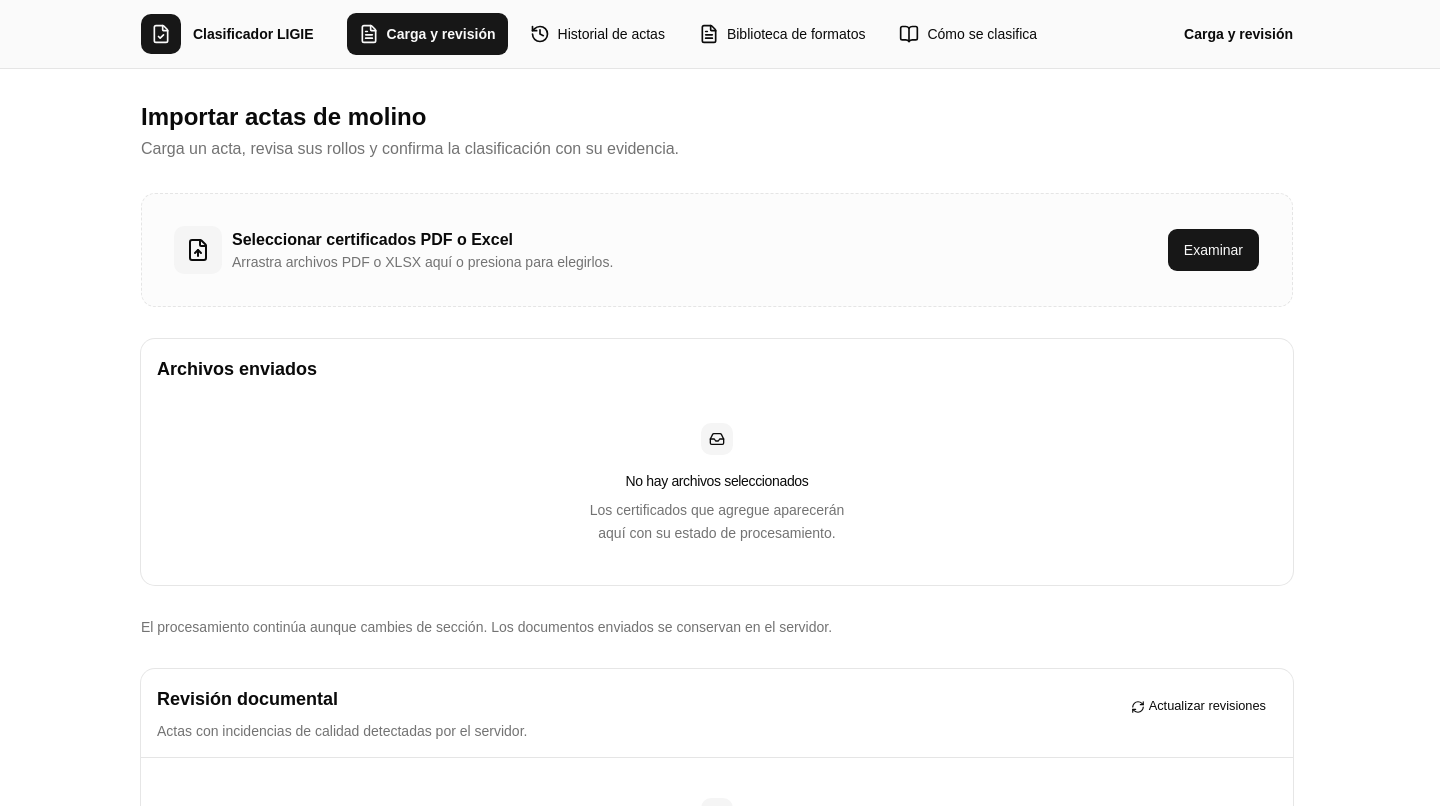
Carga, revisión e historial › conserva las selecciones guardadas sin una acción adicional de borrador
Click the button "Historial de actas" at (597, 34), box [516,12,678,56]
(page scrolled)
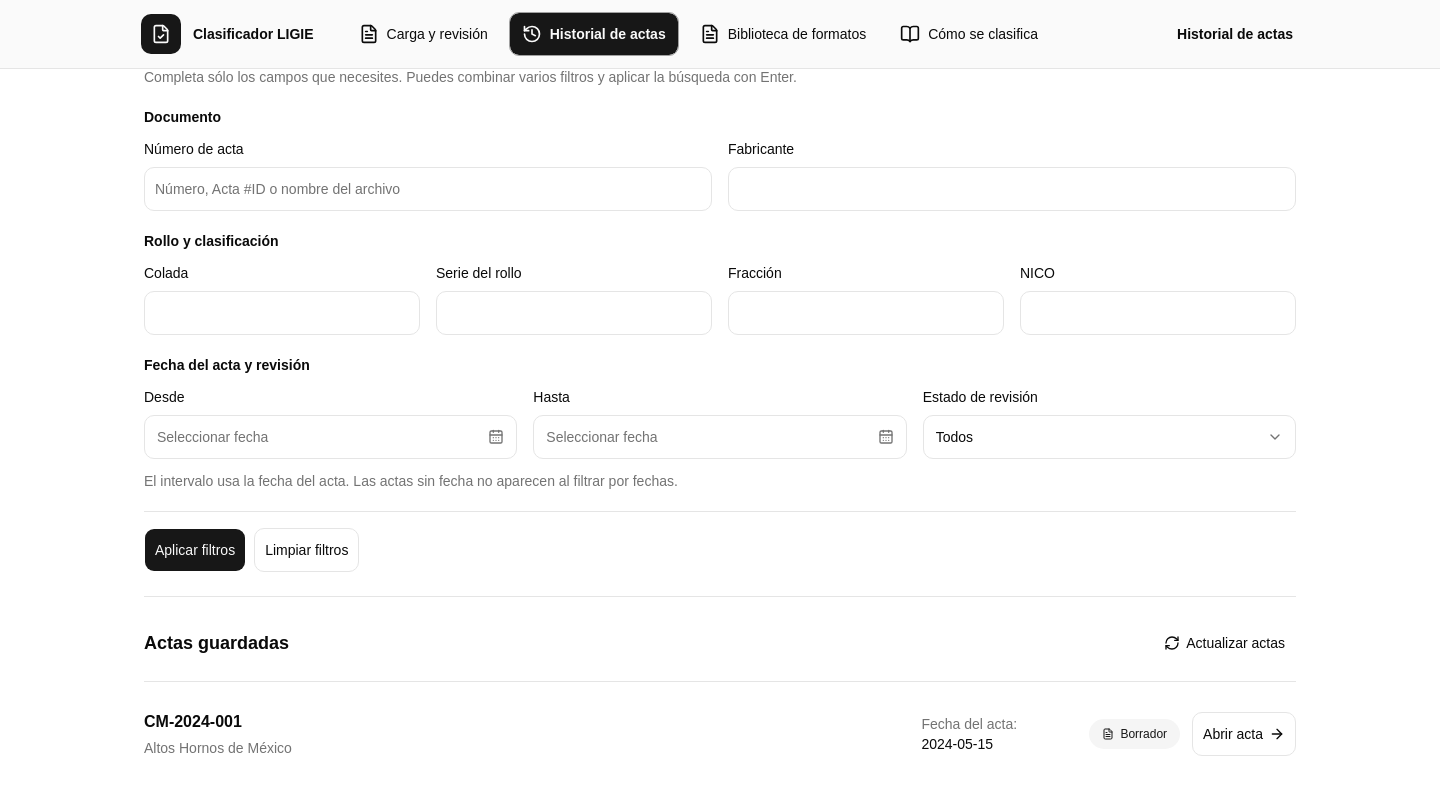
Click the button "Abrir acta" at (1244, 734), box [1192,712,1296,756]
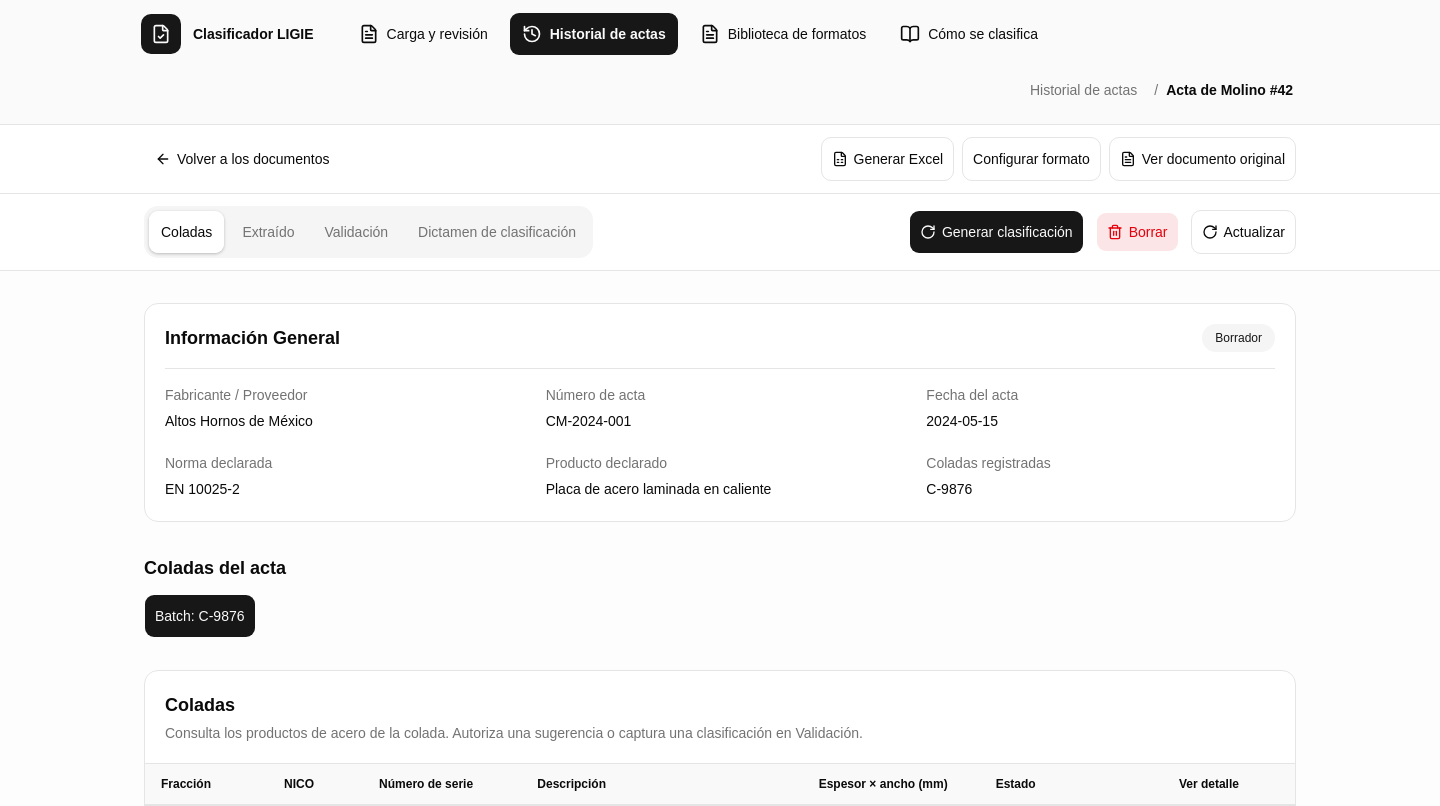
Click the button "Dictamen de clasificación" at (497, 232), box [405,210,589,254]
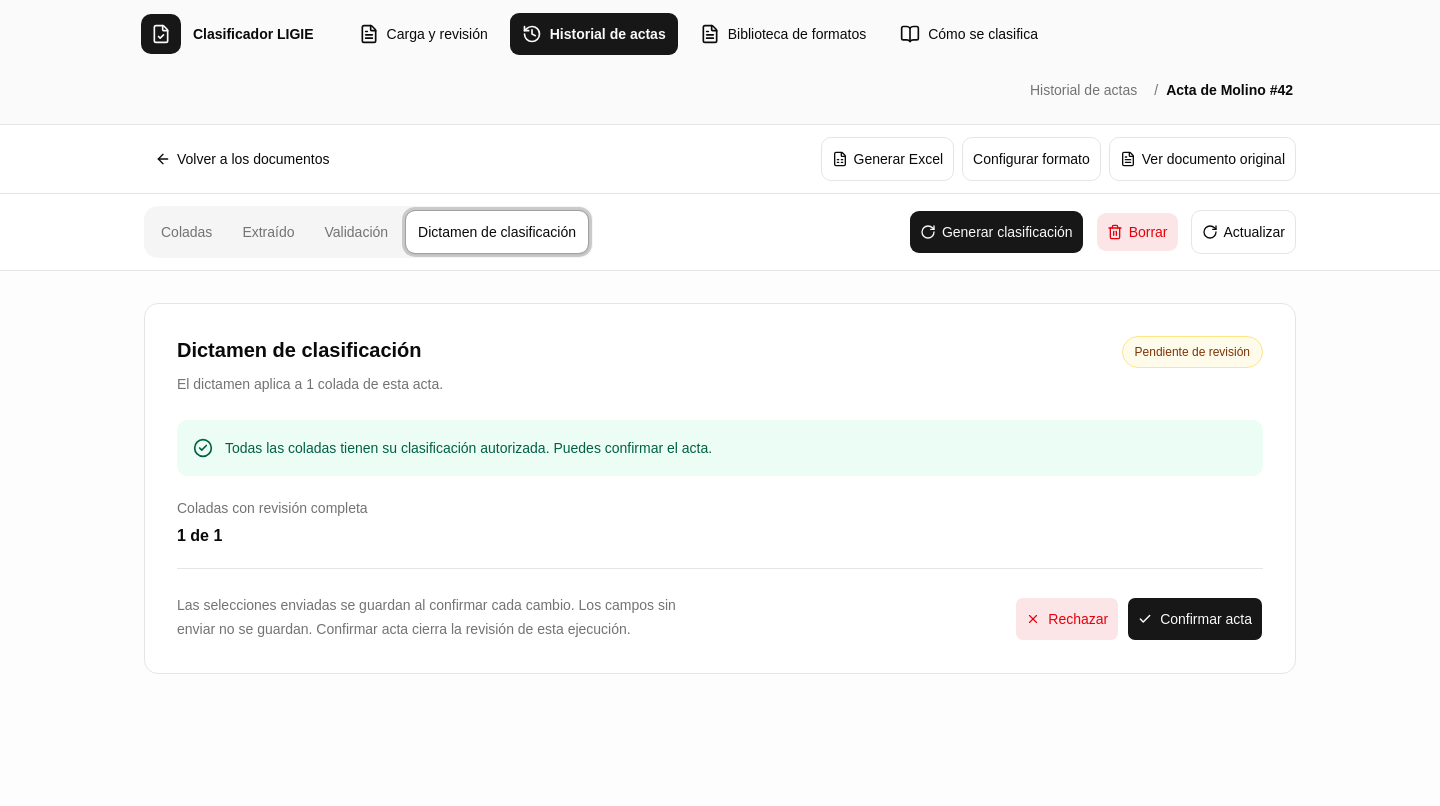
Check: the text "Las selecciones enviadas se guardan al confirmar cada cambio. Los campos sin enviar no se guardan. Confirmar acta cierra" is shown, box [177,597,676,637]
